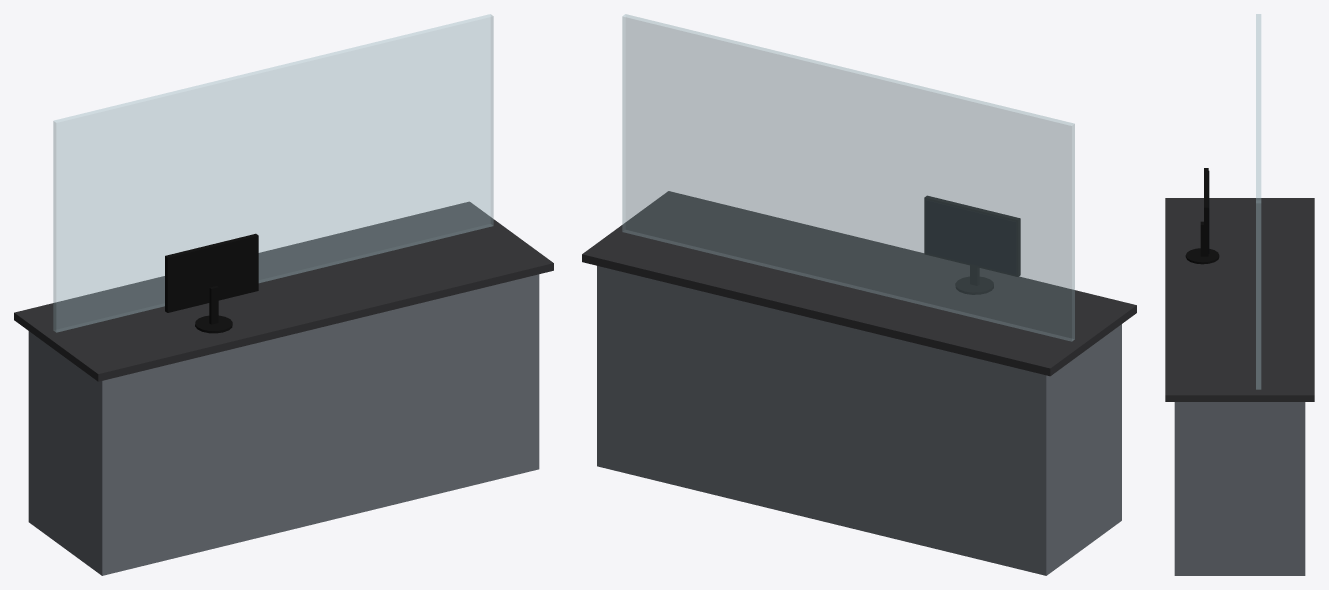
File: police.custody.front_counter.glb
The picture shows the model from 3 angles, left to right: view 1: azimuth 30°, elevation 25°; view 2: azimuth 150°, elevation 25°; view 3: azimuth 270°, elevation 25°; orthographic projection. The views are drawn at different scales.
Parts seen in each view (by area): view 1: main__laminate_grey, main__glass, main__worktop, main__plastic_black; view 2: main__laminate_grey, main__glass, main__worktop, main__screen, main__plastic_black; view 3: main__worktop, main__laminate_grey, main__glass, main__plastic_black.
Part boxes in pixels (<box>): main__laminate_grey: <box>28,274,539,575</box>; main__glass: <box>53,14,493,332</box>; main__worktop: <box>14,201,553,381</box>; main__plastic_black: <box>165,233,258,333</box>; main__laminate_grey: <box>597,266,1121,575</box>; main__glass: <box>622,14,1074,341</box>; main__worktop: <box>582,191,1136,376</box>; main__screen: <box>926,200,1016,274</box>; main__plastic_black: <box>924,195,1020,294</box>; main__worktop: <box>1165,198,1314,401</box>; main__laminate_grey: <box>1174,402,1305,575</box>; main__glass: <box>1256,14,1260,389</box>; main__plastic_black: <box>1185,168,1219,264</box>.
Size of the model in its own units: 2.5 by 2.2 by 0.8.
